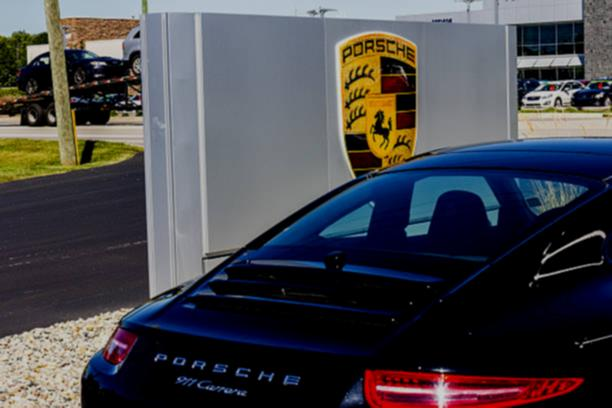porsche: (330, 28, 424, 172), (138, 347, 312, 391)
